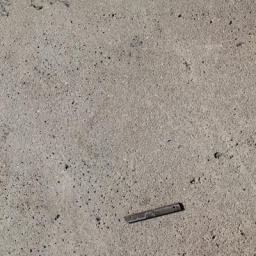FOD: (121, 202, 189, 226)
